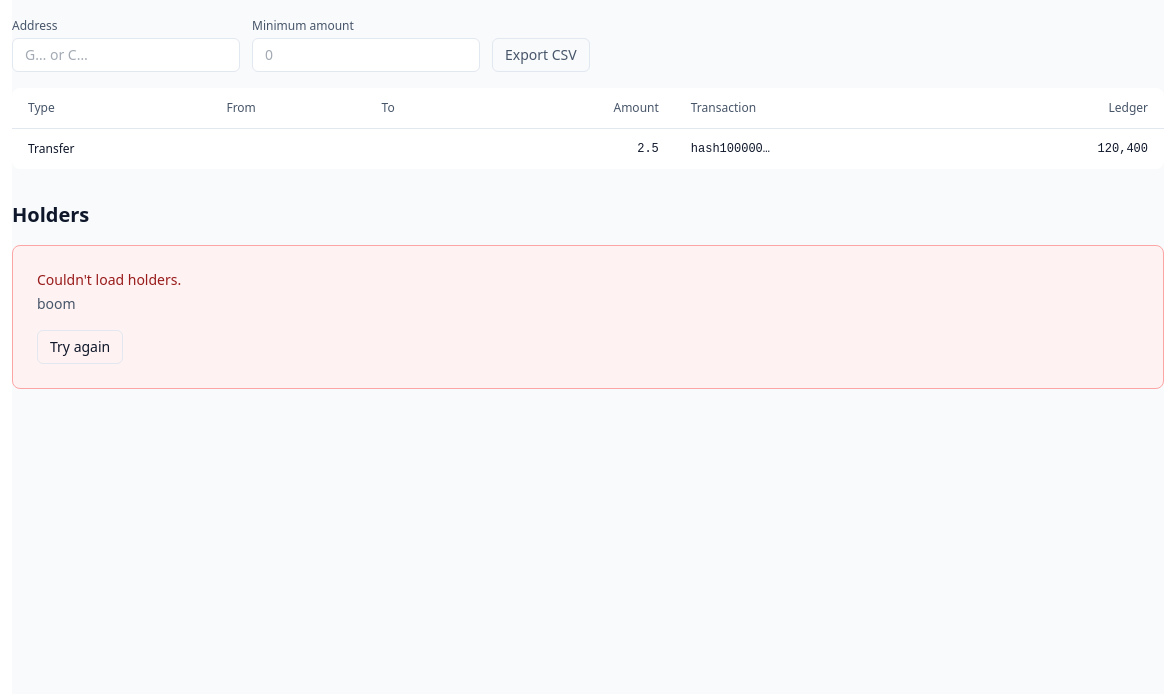
Scenario: ContractTokensPanel › shows an error with a working retry
Expected: the text "Couldn't load holders." is shown, [37,270,181,289]
Click the button "Try again" at (80, 347), box [37,330,123,364]
(page scrolled)
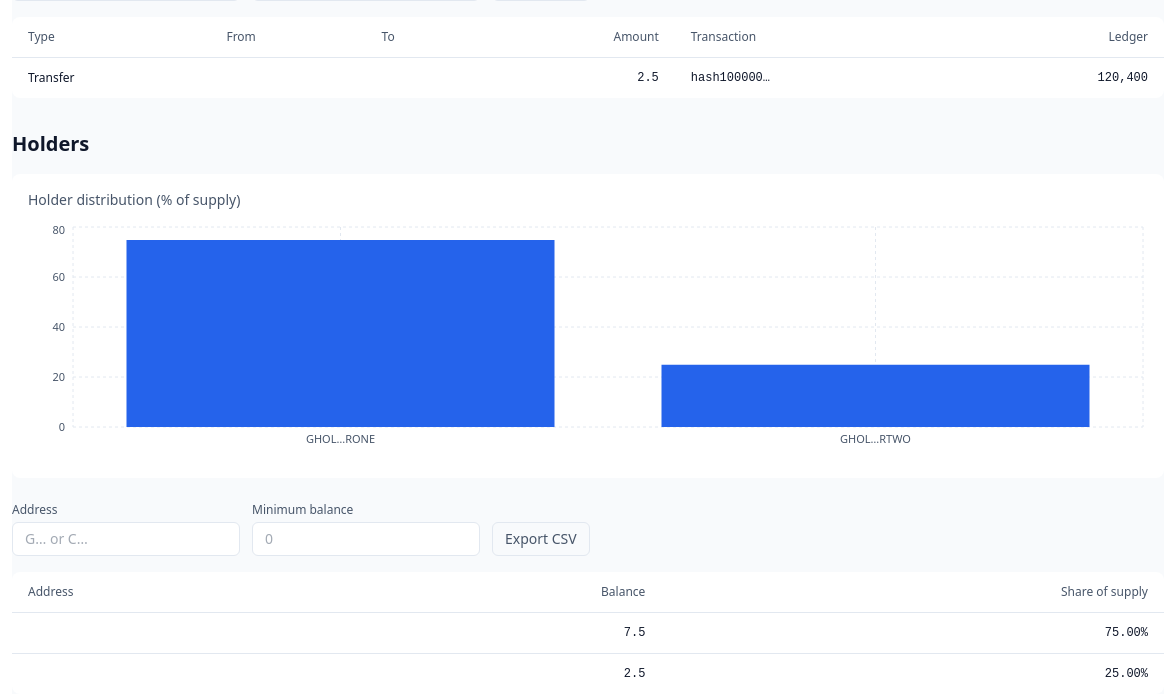
Expected: the text "75.00%" is shown, [661,612,1163,654]
